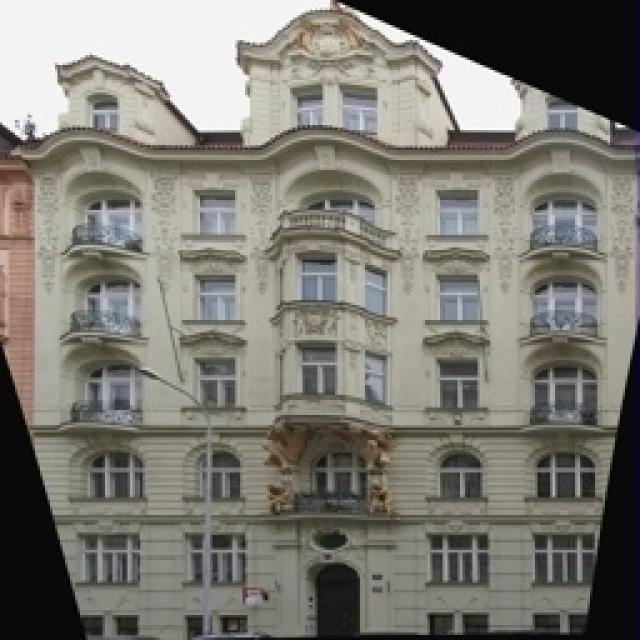building: (40, 7, 640, 640)
